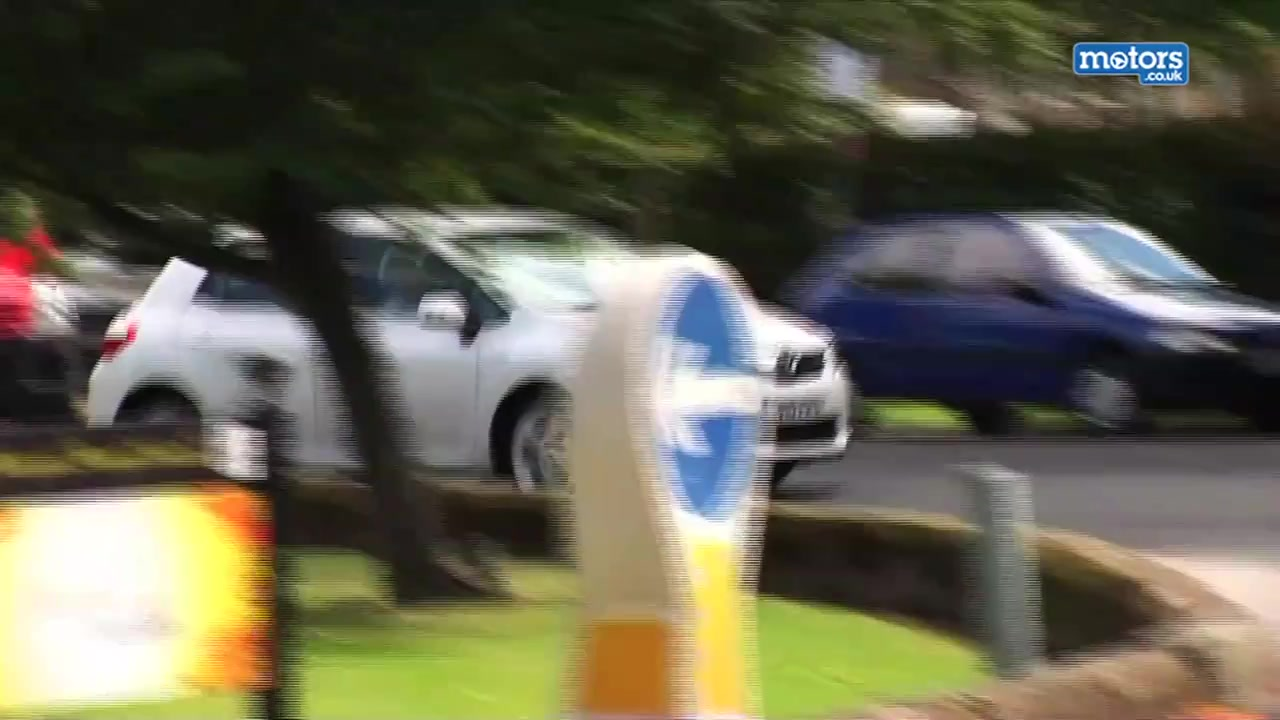car: (77, 199, 853, 501), (787, 207, 1280, 441)
